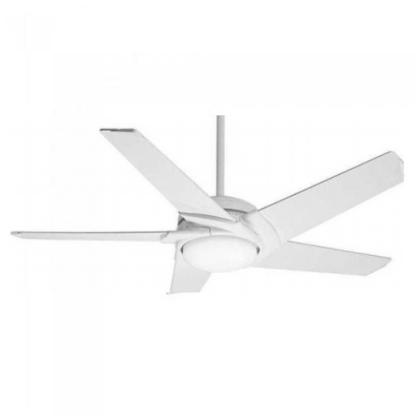ceiling-fan: (11, 115, 404, 294)
